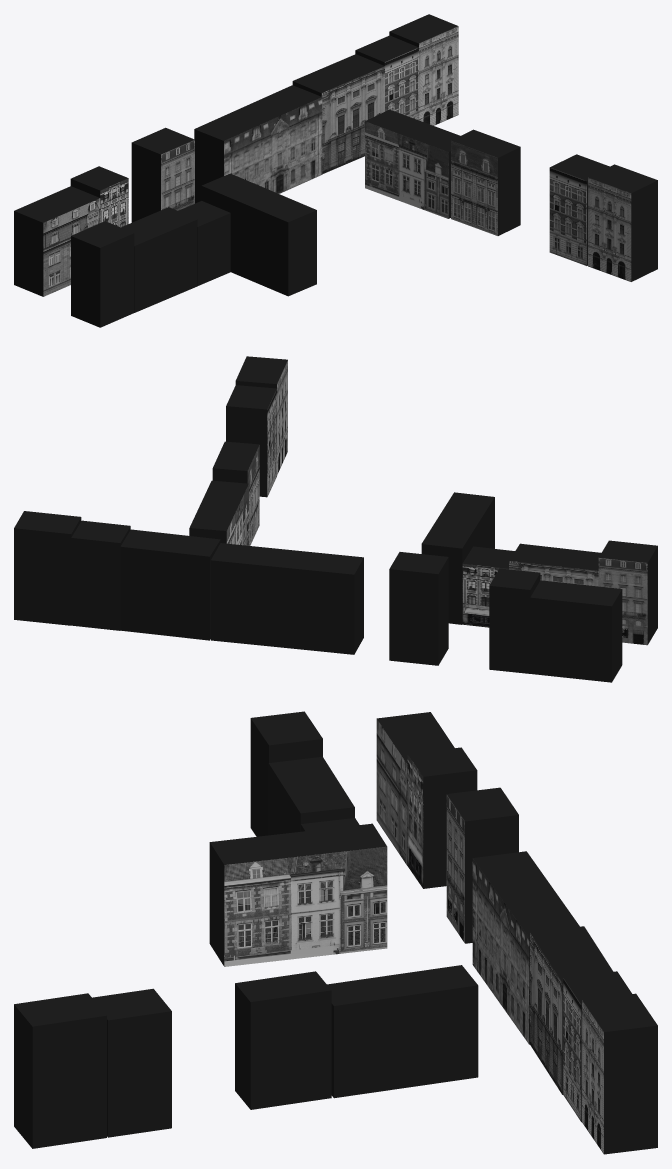
File: GSP_OLD_PLaceholder_temp_buildings.FBX
3 renders of one model, top to bottom at view 1: azimuth 30°, elevation 25°; view 2: azimuth 150°, elevation 25°; view 3: azimuth 270°, elevation 25°, orthographic. The views are drawn at different scales.
Parts seen in each view (by area): view 1: A_OLD_placeholder004, G_OLD_placeholder_front, H_OLD_placeholder002, A_OLD_placeholder_front001, I_OLD_placeholder004, I_OLD_placeholderfront, G_OLD_placeholder, D_OLD_placeholder_front001, B_OLD_placeholder_front001, E_OLD_placeholder, D_OLD_placeholder_front003, D_OLD_placeholder002 (+14 smaller); view 2: G_OLD_placeholder, I_OLD_placeholder, E_OLD_placeholder, D_OLD_placeholder005, H_OLD_placeholder, C_OLD_placeholder010, A_OLD_placeholder004, F_OLD_placeholder, C_OLD_placeholder002, H_OLD_placeholder_front001, A_OLD_placeholder002, H_OLD_placeholder002 (+10 smaller); view 3: A_OLD_placeholder002, A_OLD_placeholder_front002, D_OLD_placeholder002, B_OLD_placeholder002, C_OLD_placeholder002, D_OLD_placeholder005, G_OLD_placeholder_front, A_OLD_placeholder004, I_OLD_placeholder004, F_OLD_placeholder, G_OLD_placeholder, H_OLD_placeholder002 (+10 smaller).
Boxes of the visible parts, box(x1,y1,x2,y2) form: A_OLD_placeholder004: box(201, 173, 316, 296); G_OLD_placeholder_front: box(224, 97, 322, 193); H_OLD_placeholder002: box(71, 221, 134, 327); A_OLD_placeholder_front001: box(365, 121, 448, 218); I_OLD_placeholder004: box(121, 207, 197, 312); I_OLD_placeholderfront: box(321, 66, 384, 174); G_OLD_placeholder: box(194, 85, 321, 203); D_OLD_placeholder_front001: box(588, 177, 631, 281); B_OLD_placeholder_front001: box(451, 141, 497, 235); E_OLD_placeholder: box(14, 186, 99, 296); D_OLD_placeholder_front003: box(419, 26, 458, 125); D_OLD_placeholder002: box(588, 164, 657, 281); G_OLD_placeholder: box(211, 543, 363, 654); I_OLD_placeholder: box(120, 529, 220, 640); E_OLD_placeholder: box(530, 580, 622, 682); D_OLD_placeholder005: box(14, 511, 81, 625); H_OLD_placeholder: box(389, 552, 448, 665); C_OLD_placeholder010: box(71, 520, 130, 630); A_OLD_placeholder004: box(421, 492, 494, 624); F_OLD_placeholder: box(489, 568, 540, 673); C_OLD_placeholder002: box(226, 385, 276, 497); H_OLD_placeholder_front001: box(598, 558, 647, 645); A_OLD_placeholder002: box(189, 480, 248, 543); H_OLD_placeholder002: box(599, 540, 657, 644); A_OLD_placeholder002: box(327, 965, 478, 1098); A_OLD_placeholder_front002: box(224, 846, 387, 966); D_OLD_placeholder002: box(14, 993, 106, 1148); B_OLD_placeholder002: box(235, 971, 331, 1109); C_OLD_placeholder002: box(92, 988, 171, 1137); D_OLD_placeholder005: box(582, 993, 657, 1154); G_OLD_placeholder_front: box(472, 858, 529, 1044); A_OLD_placeholder004: box(209, 823, 386, 966); I_OLD_placeholder004: box(268, 756, 354, 835); F_OLD_placeholder: box(408, 747, 477, 888); G_OLD_placeholder: box(473, 851, 579, 1044); H_OLD_placeholder002: box(250, 711, 322, 836).
Bounding box in the file's own units: 14333 × 2400 × 11452.
Materials: 10 (9 with a texture image).
